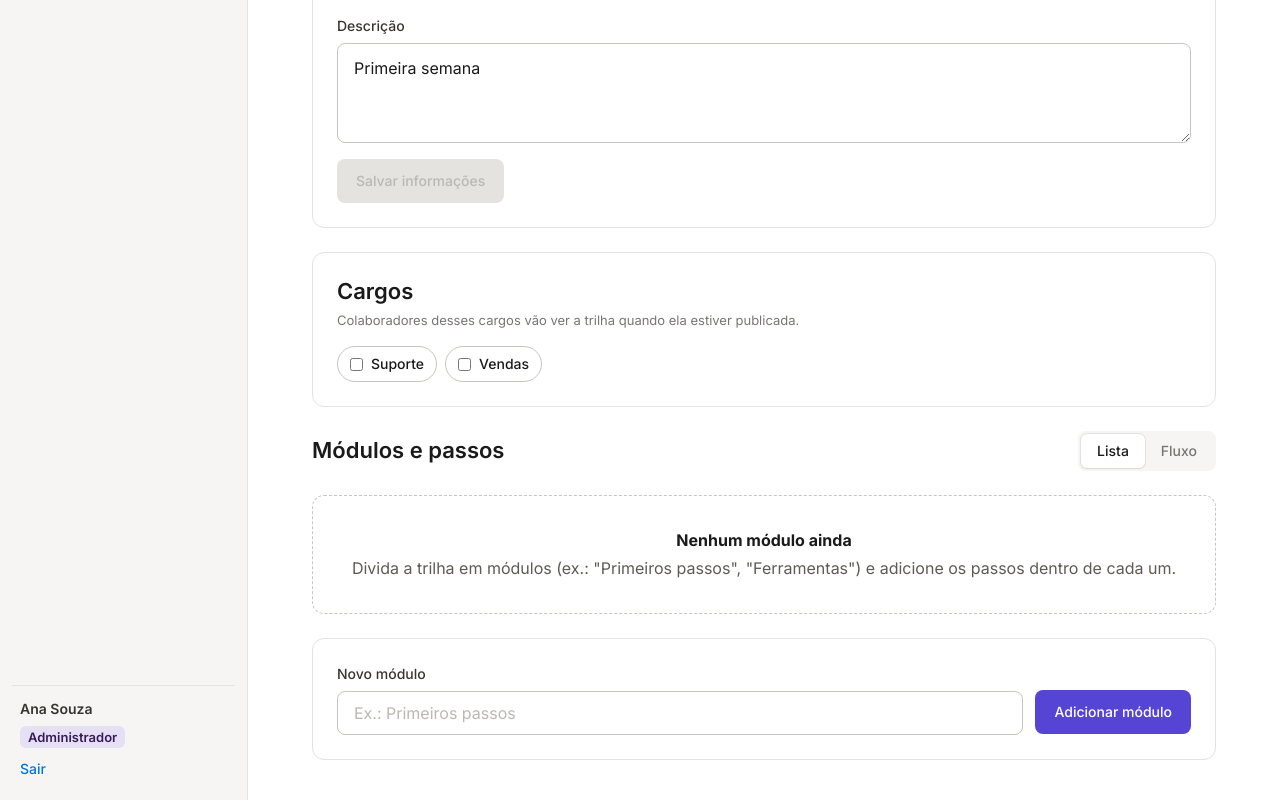
it: editor de trilha › adiciona e reordena módulos
(page scrolled)
Check: the text "Nenhum módulo ainda" is shown, box [676,530,852,550]
Type "Primeiros passos" into the field labelled "Novo módulo" at (680, 713), box [337,691,1024,735]
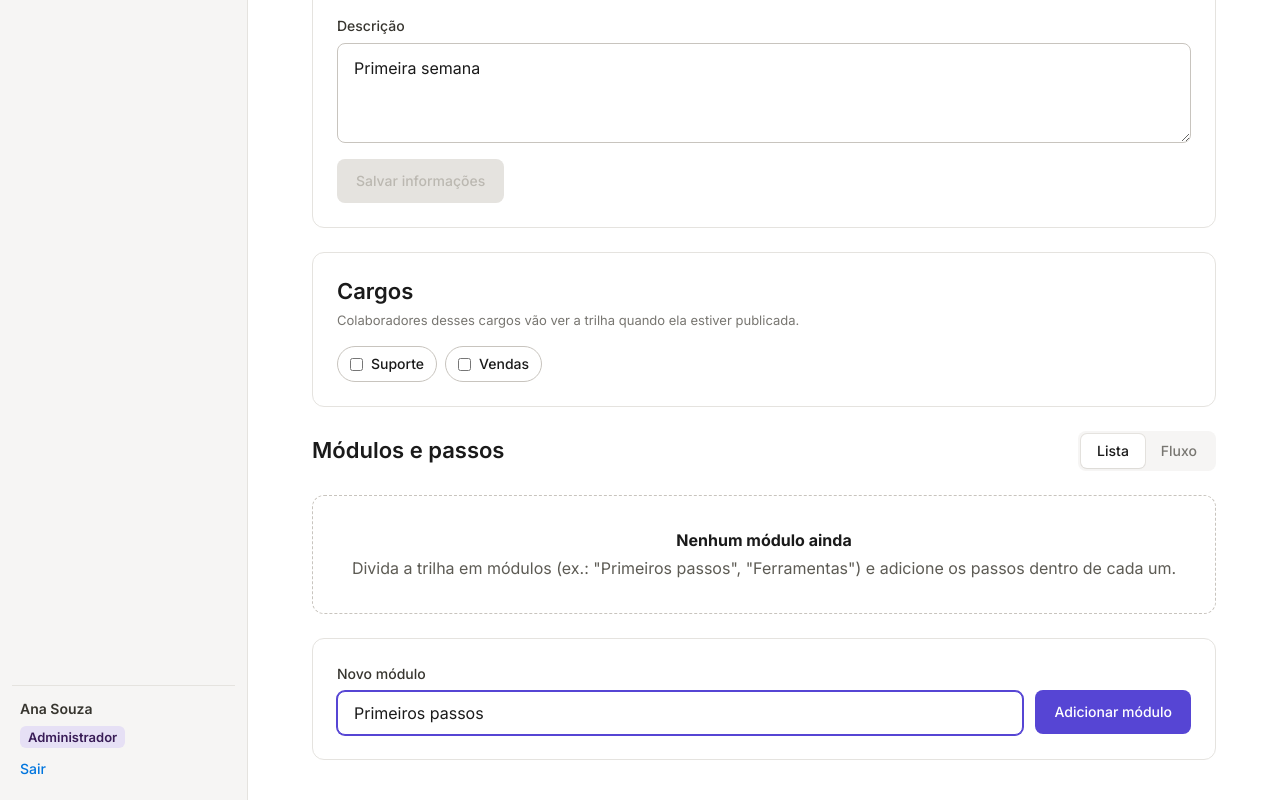
Click the button "Adicionar módulo" at (1113, 712), box [1036,690,1191,734]
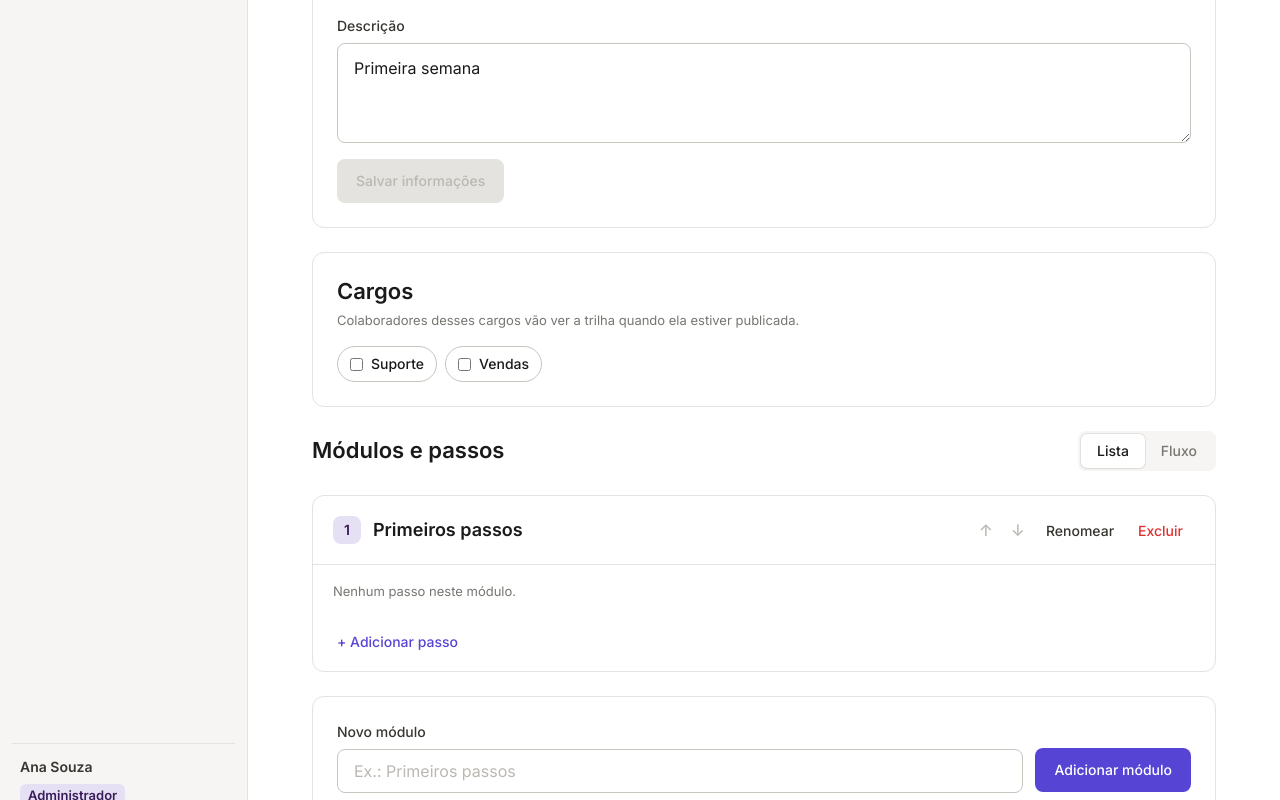
Check: the heading "Primeiros passos" is shown, box [373,519,523,540]
Type "Ferramentas" into the field labelled "Novo módulo" at (680, 771), box [337,749,1024,793]
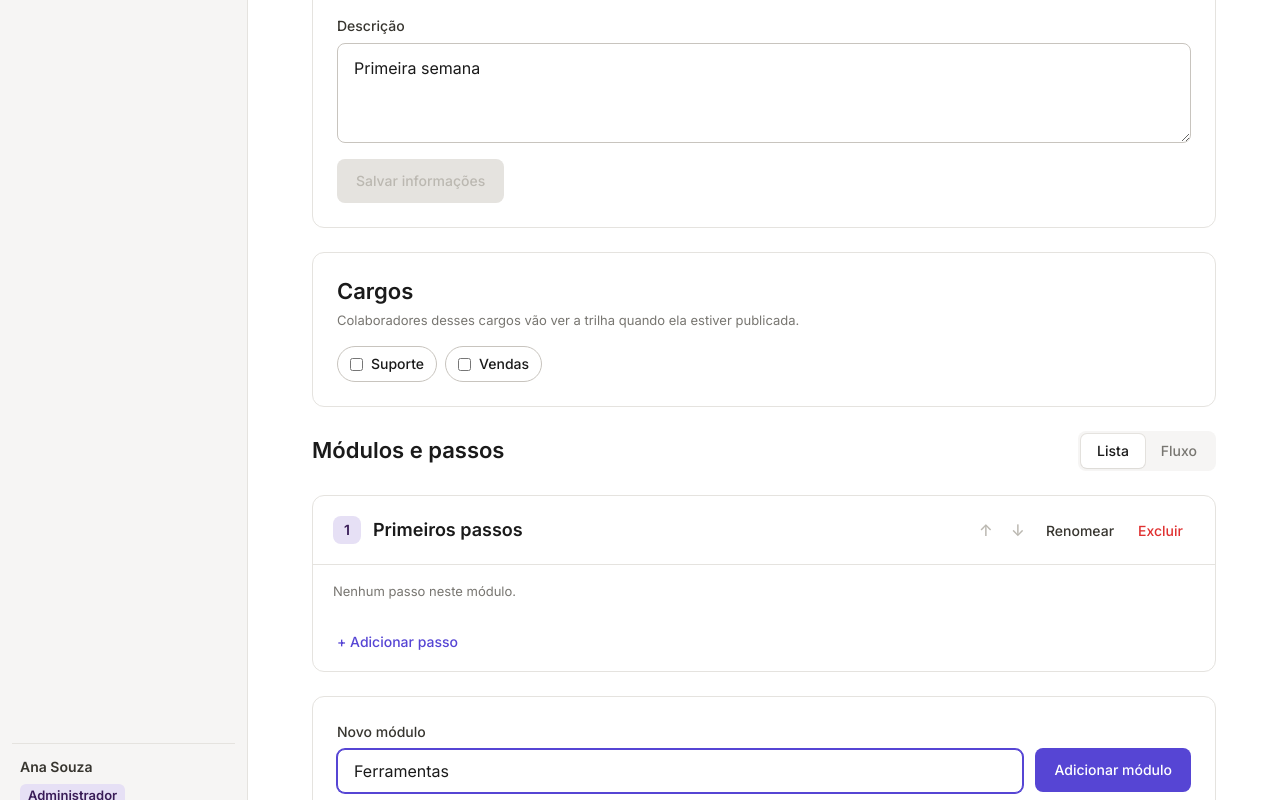
Click the button "Adicionar módulo" at (1113, 770), box [1036,748,1191,792]
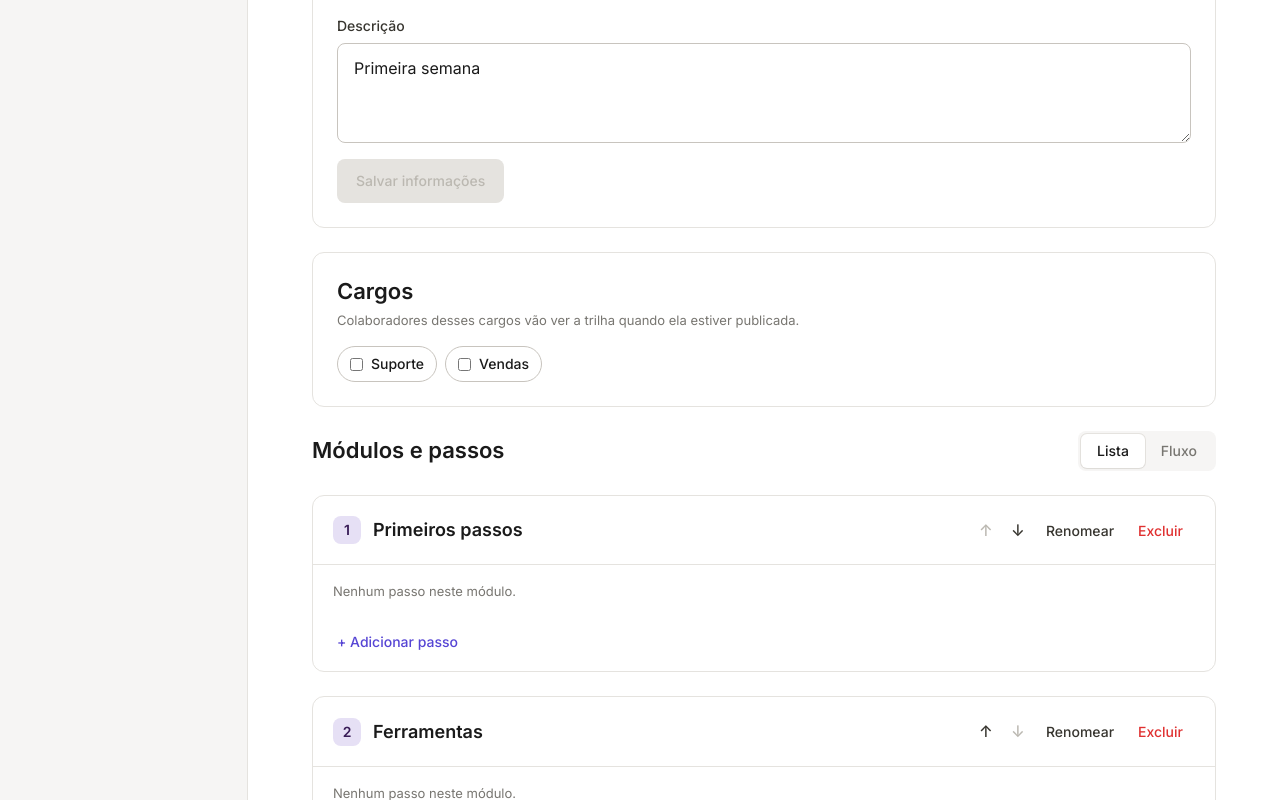
Check: the button named "Subir módulo Primeiros passos" is disabled, box [970,512,1002,548]
Check: the heading "Ferramentas" is shown, box [373,721,483,742]
Click the button named "Descer módulo Primeiros passos" at (1018, 530), box [1002,512,1034,548]
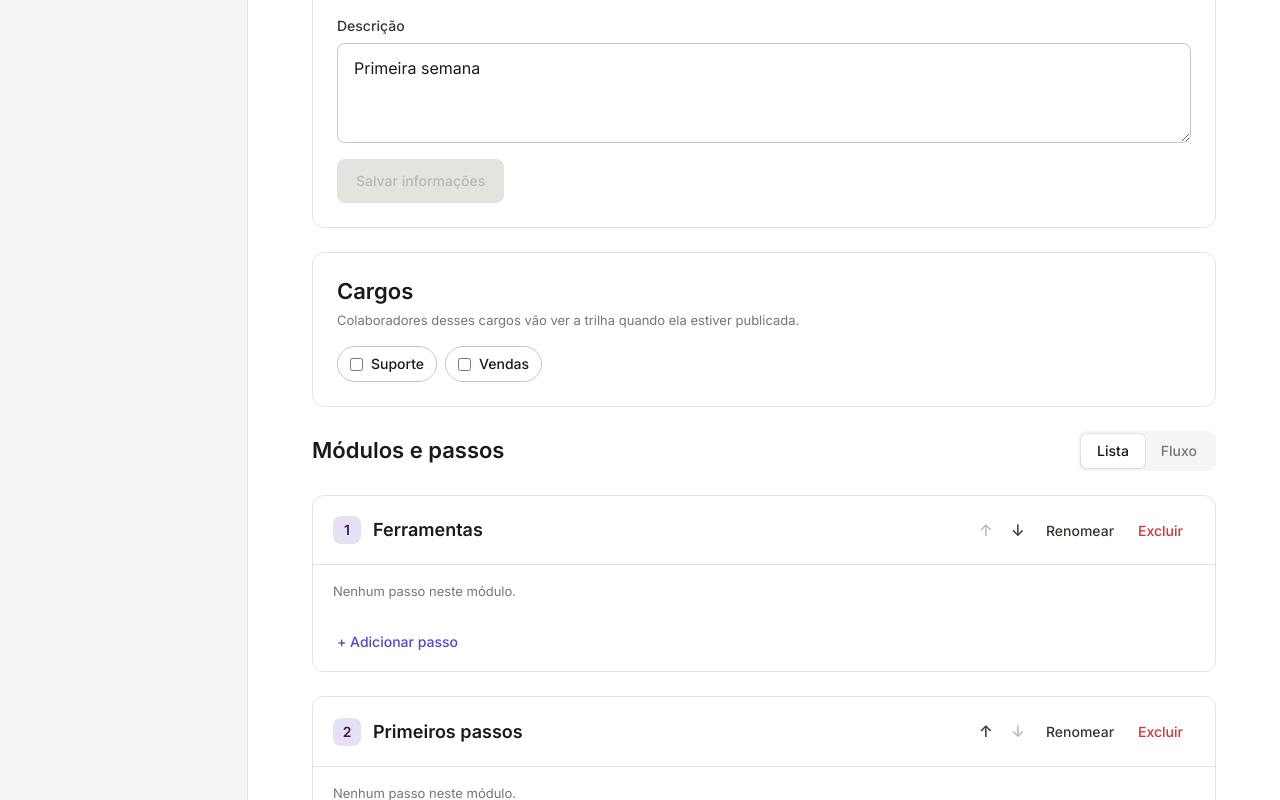
Check: the headings read "Ferramentas", "Primeiros passos", in this order, box [373,519,483,540]; [373,721,523,742]
